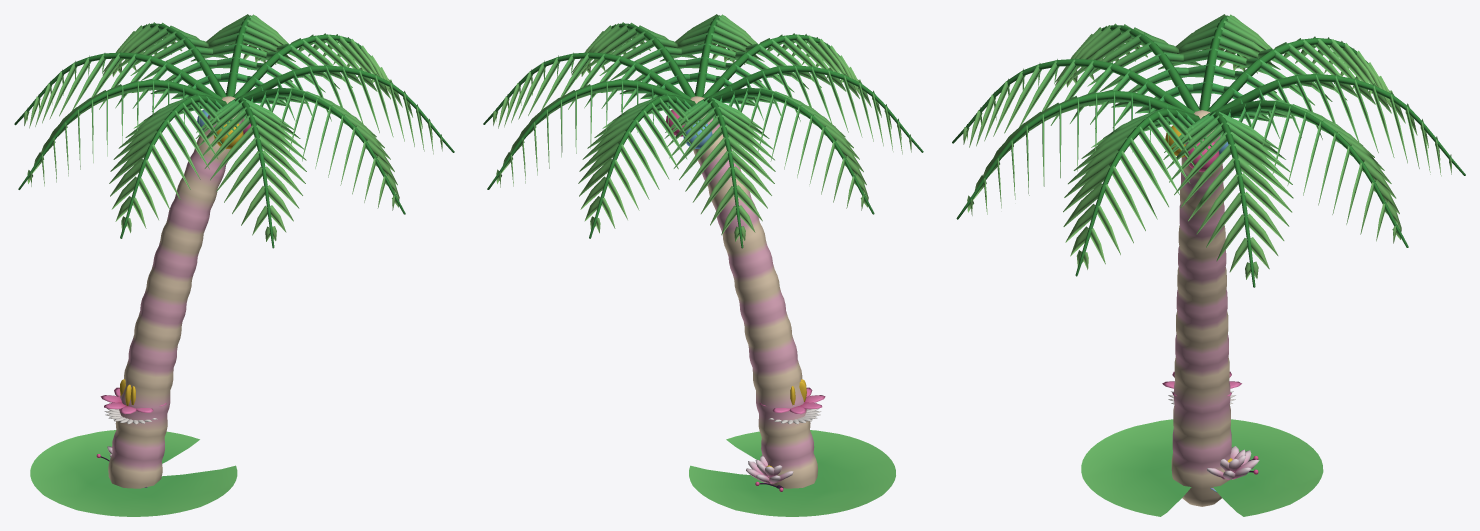
File: nature.lite.glb
3 views of the same model, side by side, from view 1: azimuth 30°, elevation 25°; view 2: azimuth 150°, elevation 25°; view 3: azimuth 270°, elevation 25° (orthographic). The views are drawn at different scales.
Parts seen in each view (by area): view 1: Palm, LilyPad, Cosmos; view 2: Palm, LilyPad; view 3: Palm, LilyPad.
Boxes of the visible parts, x1,y1,x2,y2 form: Palm: (14,14,454,488); LilyPad: (30,430,237,516); Cosmos: (100,387,166,414); Palm: (483,14,923,488); LilyPad: (689,430,895,516); Palm: (952,14,1465,506); LilyPad: (1081,419,1323,516).
Size of the model in its own units: 3.86 by 3.96 by 3.82.
